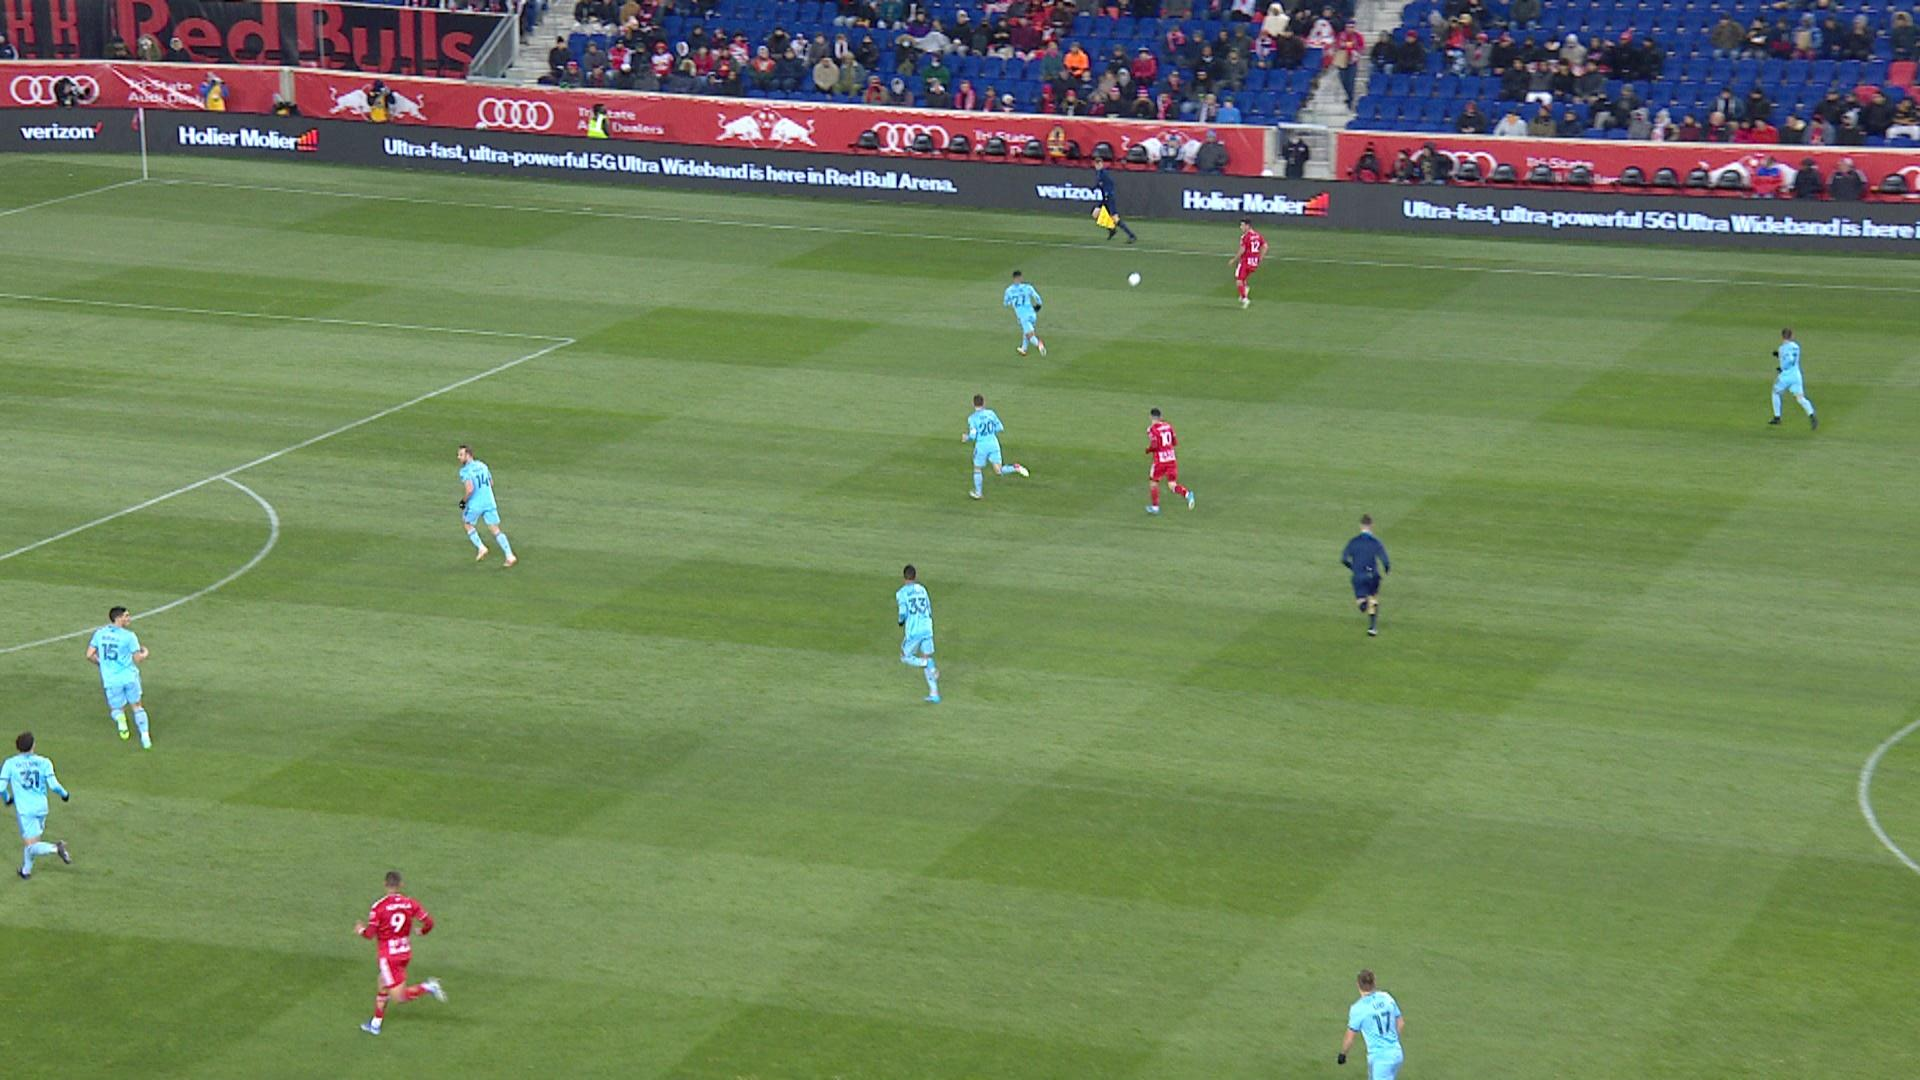football: (1126, 272, 1142, 287)
